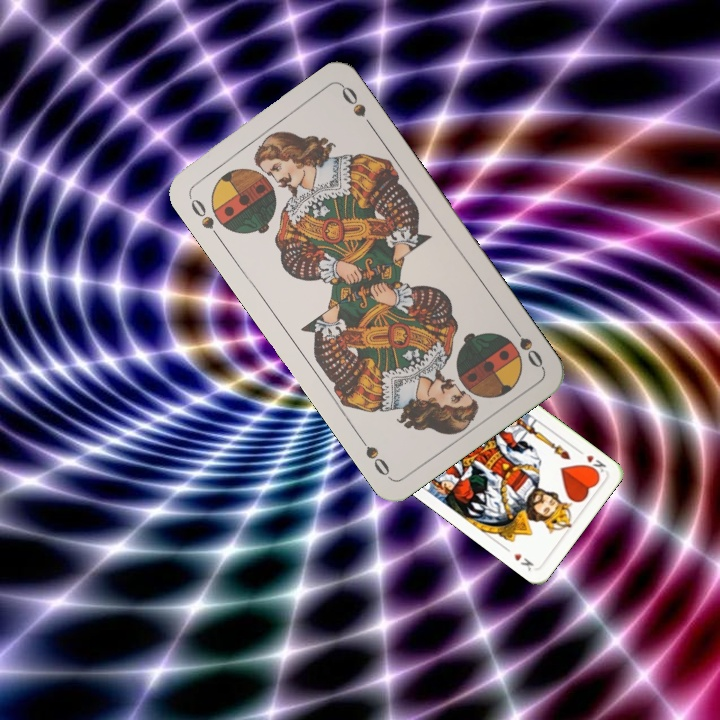HK: (580, 451, 609, 478)
SO: (184, 191, 230, 243), (506, 319, 547, 371)
